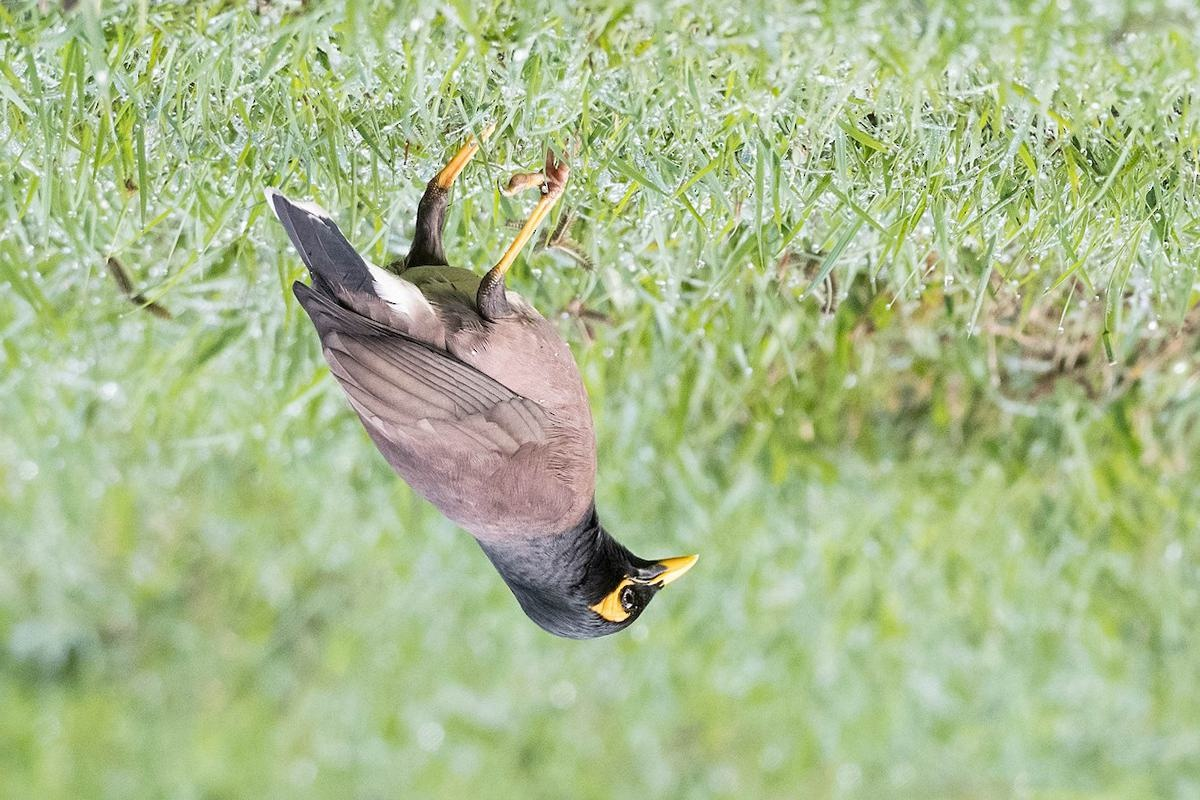myna: (249, 155, 709, 660)
